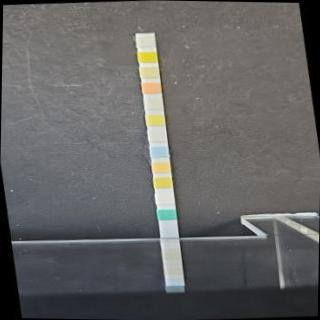mark: (145, 112, 164, 126), (138, 50, 157, 63), (144, 97, 162, 110), (151, 161, 170, 173), (135, 34, 154, 46), (157, 208, 175, 220), (154, 176, 172, 188), (150, 146, 168, 158), (148, 129, 166, 141), (142, 82, 160, 94), (156, 192, 173, 204), (140, 66, 158, 77)
